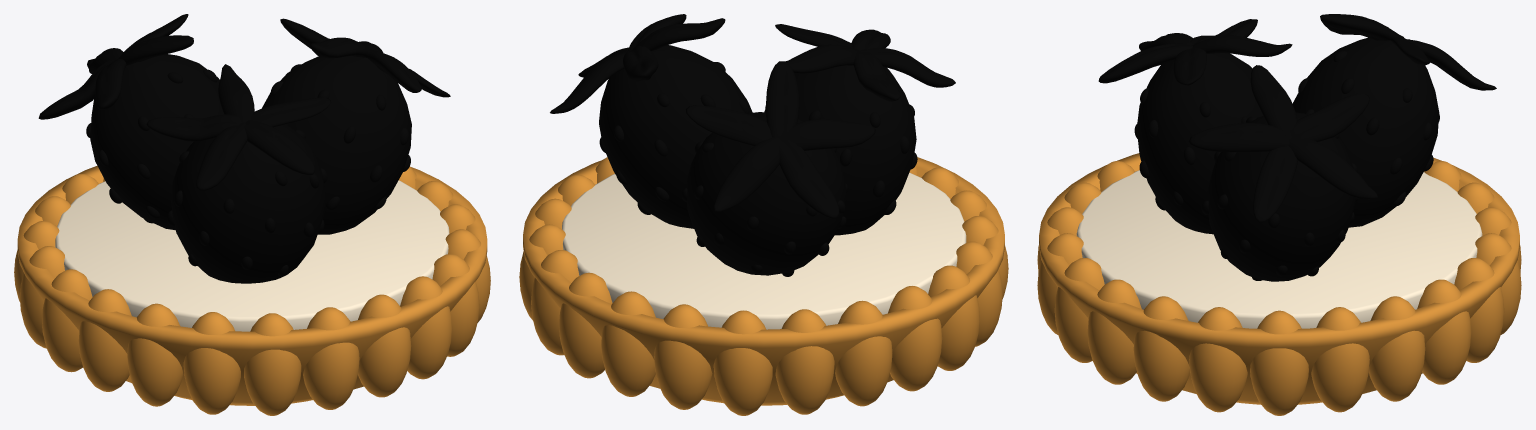
Rendered from Menu_BerryTart.fbx.
3 views of the same model, side by side, from view 1: azimuth 30°, elevation 25°; view 2: azimuth 150°, elevation 25°; view 3: azimuth 270°, elevation 25° (orthographic). The views are drawn at different scales.
Visible parts, largest first — view 1: Menu_BerryTart.001; view 2: Menu_BerryTart.001; view 3: Menu_BerryTart.001.
Boxes of the visible parts, box(x1,y1,x2,y2) form: Menu_BerryTart.001: box(14, 14, 490, 415); Menu_BerryTart.001: box(519, 14, 1008, 415); Menu_BerryTart.001: box(1037, 14, 1521, 415).
Size of the model in its own units: 59.46 by 41.49 by 58.93.
